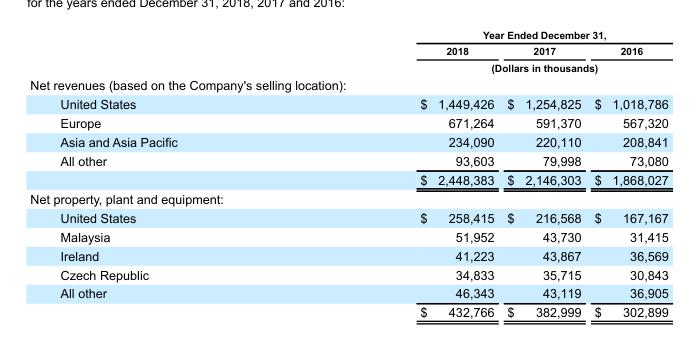table: (29, 28, 667, 319)
table column: (29, 28, 298, 319), (298, 28, 500, 319), (500, 28, 587, 319), (587, 28, 667, 319)
table column header: (29, 28, 667, 75)
table projected row header: (29, 75, 667, 94), (29, 188, 667, 207)
table row: (29, 75, 667, 94), (29, 94, 667, 113), (29, 113, 667, 132), (29, 132, 667, 151), (29, 169, 667, 188), (29, 188, 667, 207), (29, 207, 667, 226), (29, 226, 667, 245), (29, 245, 667, 264), (29, 264, 667, 283), (29, 283, 667, 302), (29, 151, 667, 169), (29, 42, 667, 59), (29, 302, 667, 319), (29, 59, 667, 75), (29, 28, 667, 42)
table spanning cell: (298, 59, 667, 75), (298, 28, 667, 42)
